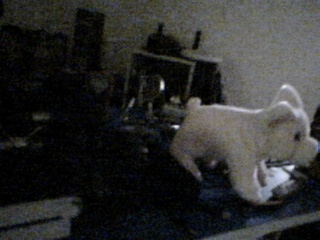piggy: (167, 82, 320, 207)
